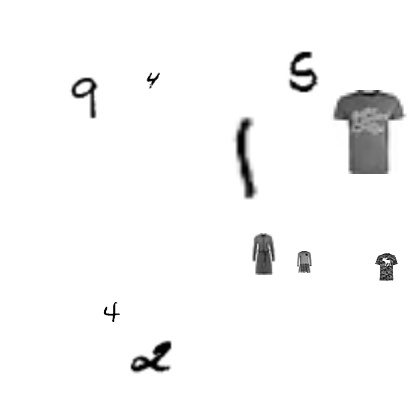1: (185, 98, 297, 210)
2: (125, 331, 181, 387)
4: (97, 298, 125, 326), (141, 68, 163, 90)
5: (274, 44, 330, 100)
9: (58, 64, 114, 120)
Dress: (242, 233, 284, 275), (293, 251, 315, 273)
T-shirt/top: (325, 90, 409, 174), (372, 253, 400, 281)
